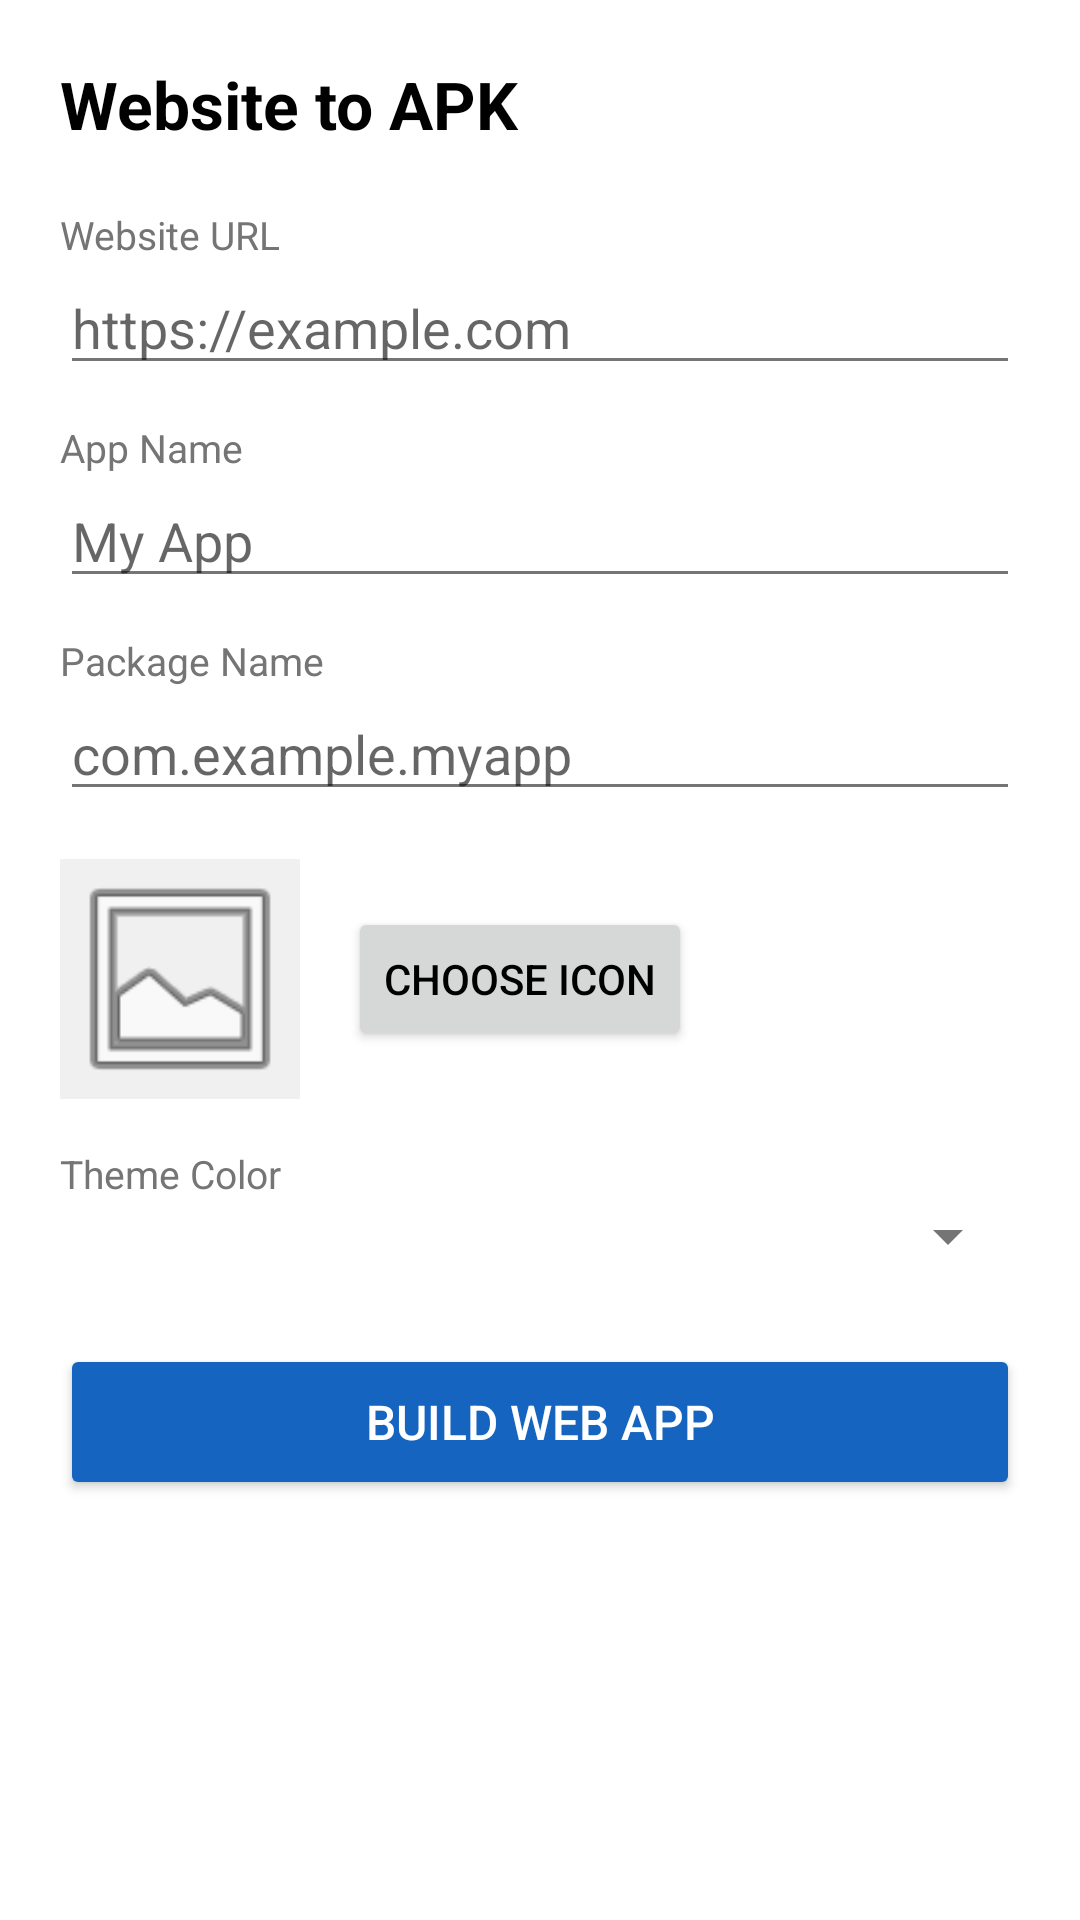

Icons on this 1080 x 1920 Android screen, each with the point to tap as [x,y]:
gallery: [180,979]
